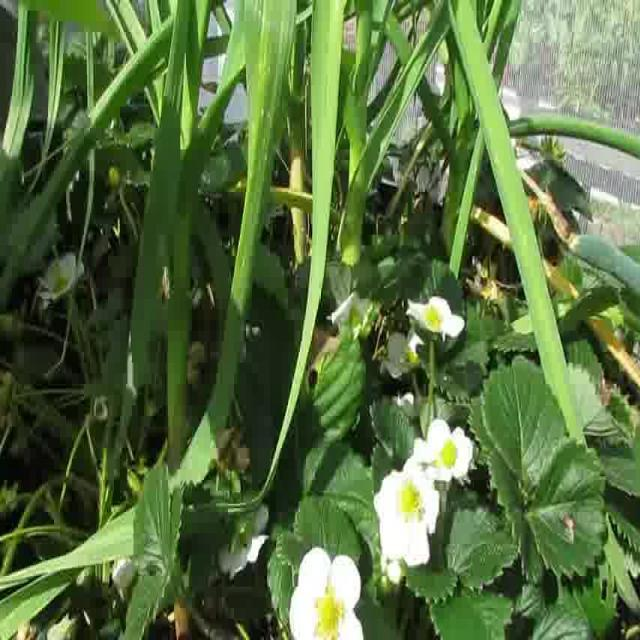Fruta sana: (106, 164, 122, 188), (54, 272, 68, 291)
